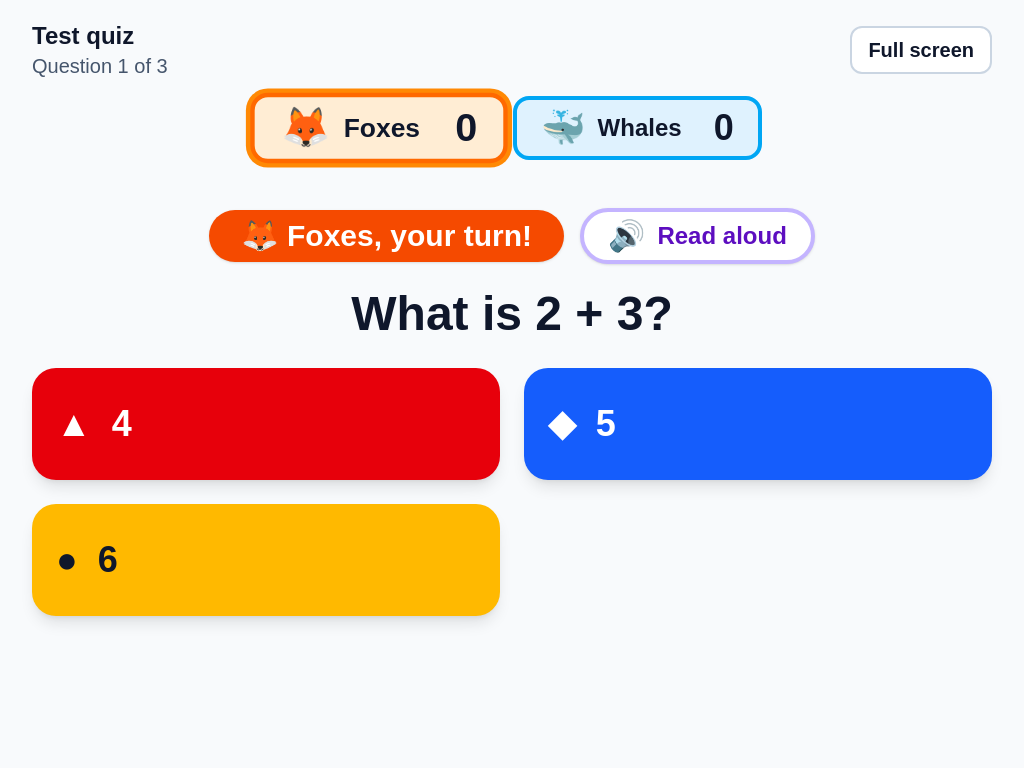
Test case: read aloud › reads the question and the options with their shapes
Click the button "🔊 Read aloud".
click(697, 236)  # box left=580, top=208, right=815, bottom=264
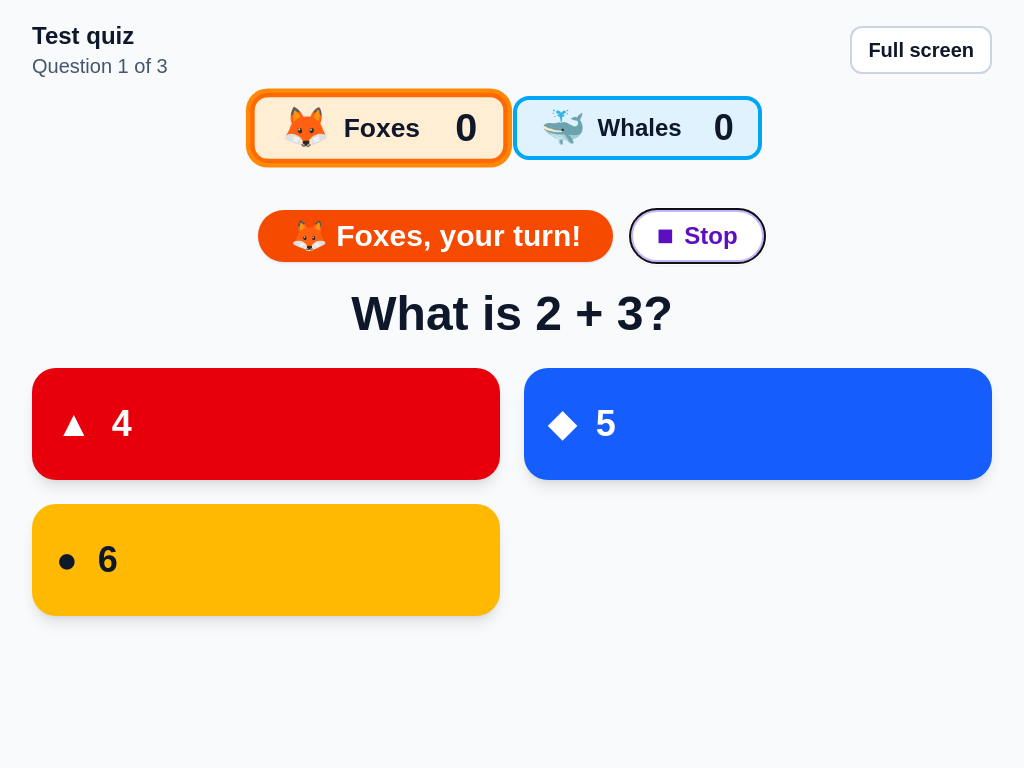
Check: the button "⏹ Stop" is shown, box left=629, top=208, right=766, bottom=264
